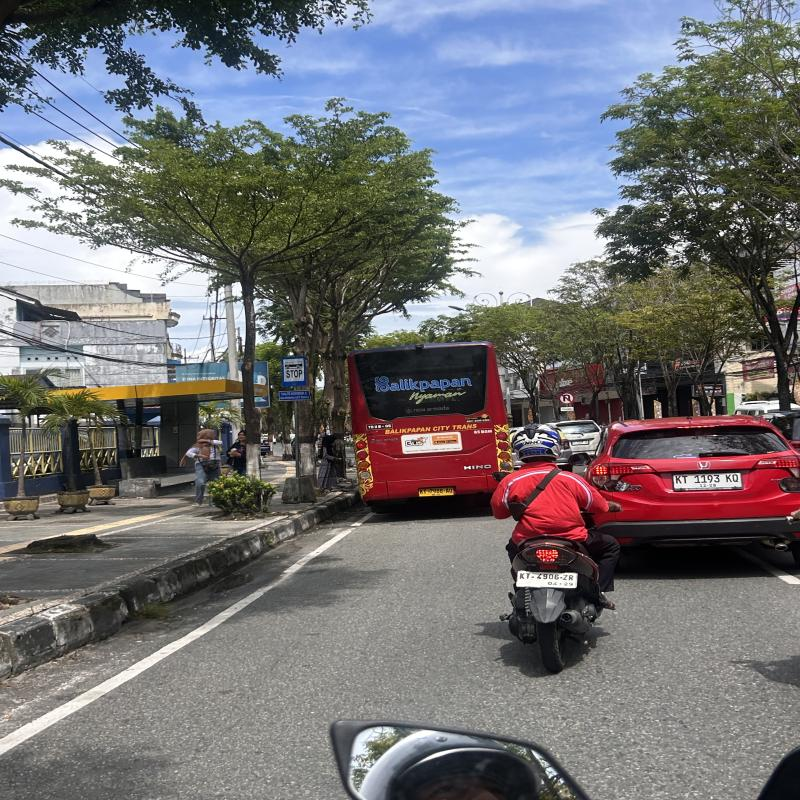license plate on a car: (673, 473, 742, 489), (419, 487, 455, 497), (571, 440, 589, 446)
